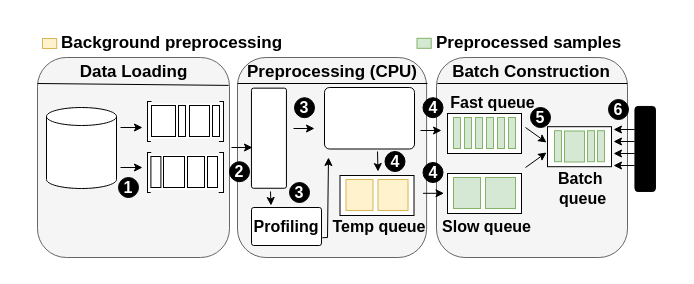
Image size: 694x284. Some labels were removed from this diagram. Each missing label, with the box of its shape:
GPU: (634, 105, 656, 191)
Processing: (250, 87, 286, 188)
Sample-aware load balancer: (324, 86, 414, 149)
Storage backend: (46, 106, 116, 188)
